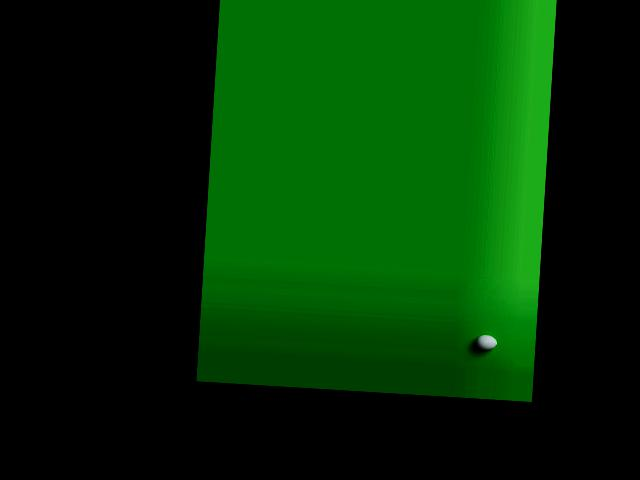egg: (475, 334, 497, 350)
